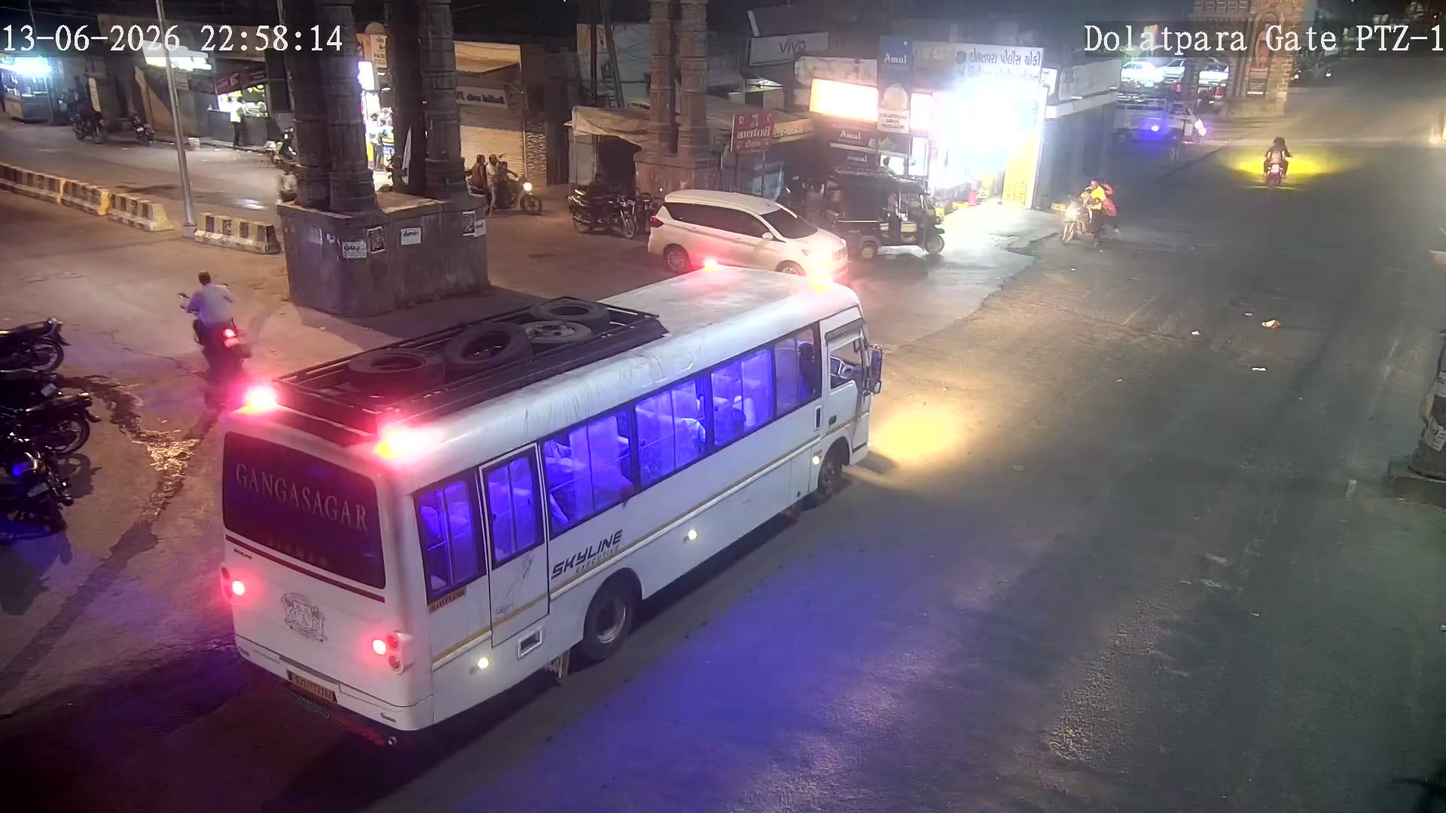bus: (204, 275, 892, 757)
car: (638, 185, 856, 279)
pedestrian: (1254, 129, 1299, 192)
two_wheeler: (173, 264, 245, 363)
